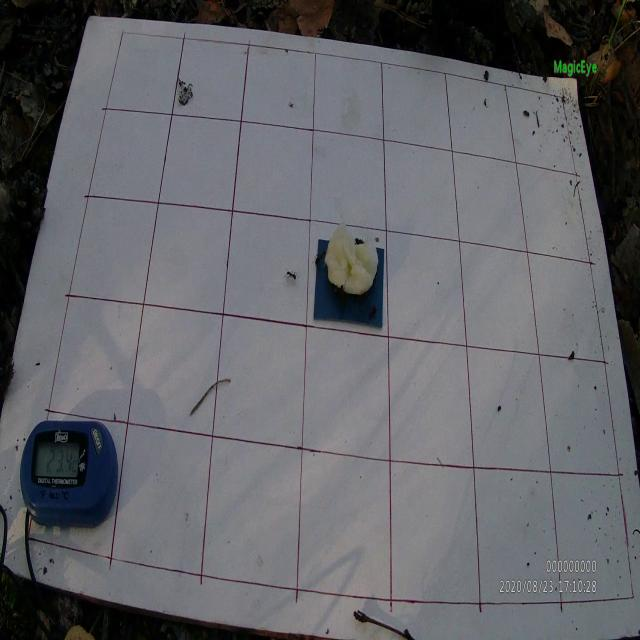Ant: (283, 268, 300, 284), (313, 249, 327, 267)
